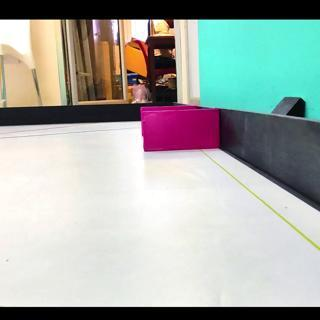xparking: (144, 114, 212, 148)
